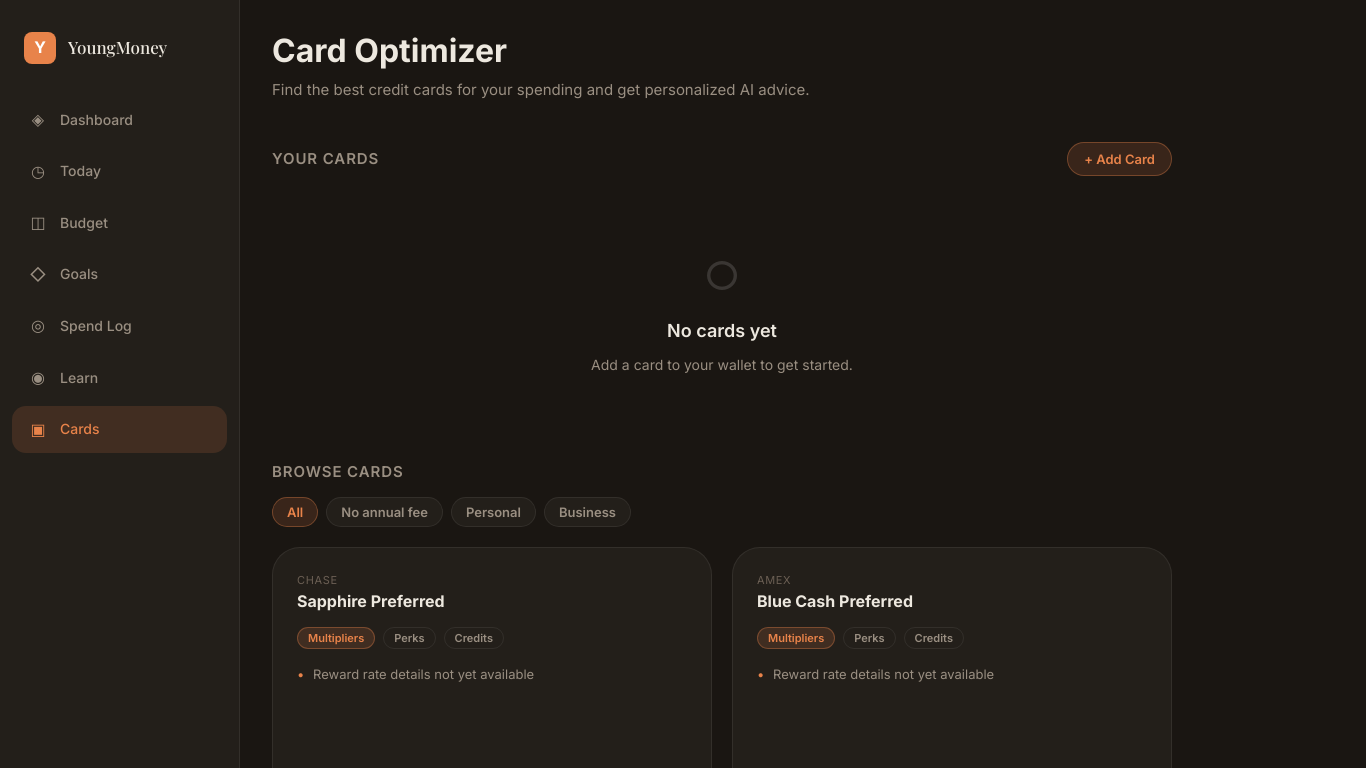
Test case: YoungMoney Main App Pages › filters cards by annual fee
The image size is (1366, 768).
Click the button "No annual fee".
click(385, 512)  # box [326, 497, 443, 527]
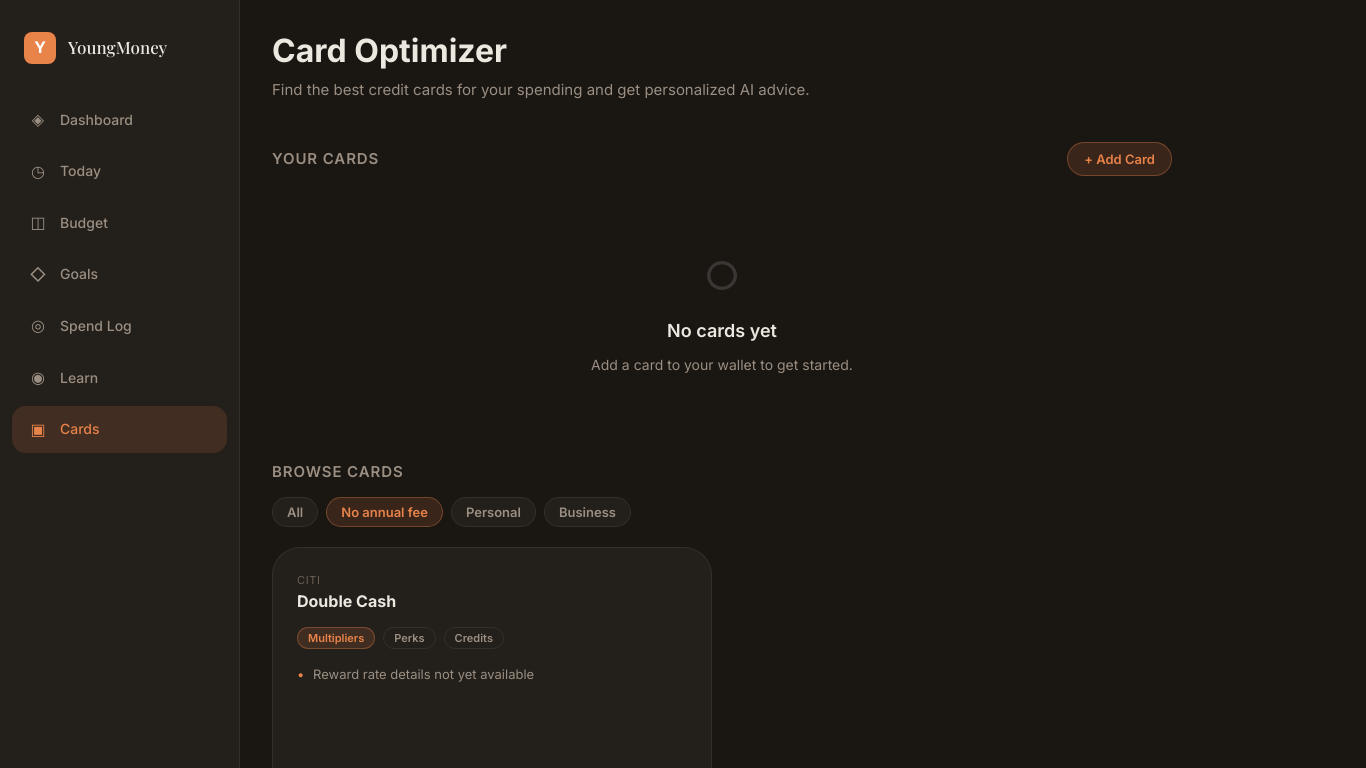
Expected: the heading "Double Cash" is shown, [297, 591, 396, 611]
Result: the heading "Sapphire Preferred" is gone
Result: the heading "Blue Cash Preferred" is gone
